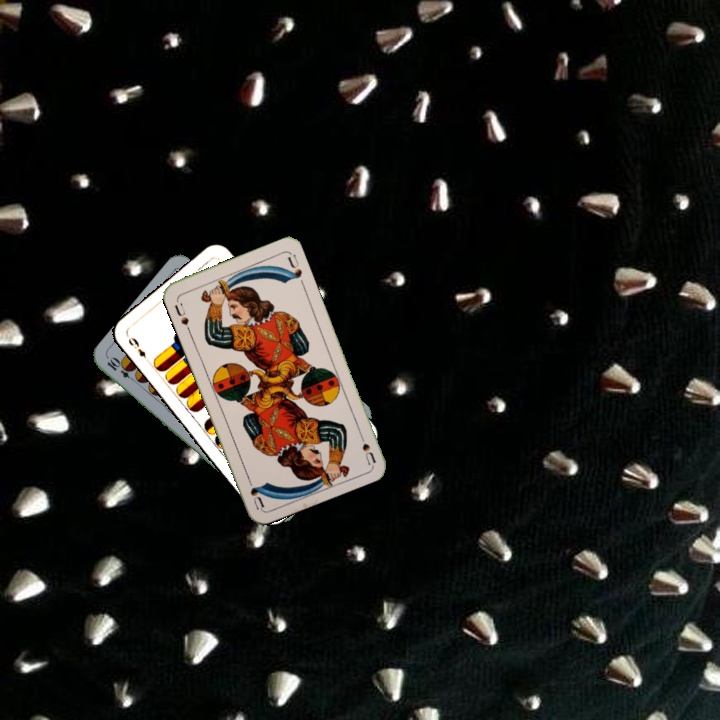E10: (103, 354, 139, 385)
E9: (124, 333, 153, 365)
SU: (354, 426, 378, 466), (170, 299, 193, 334)
